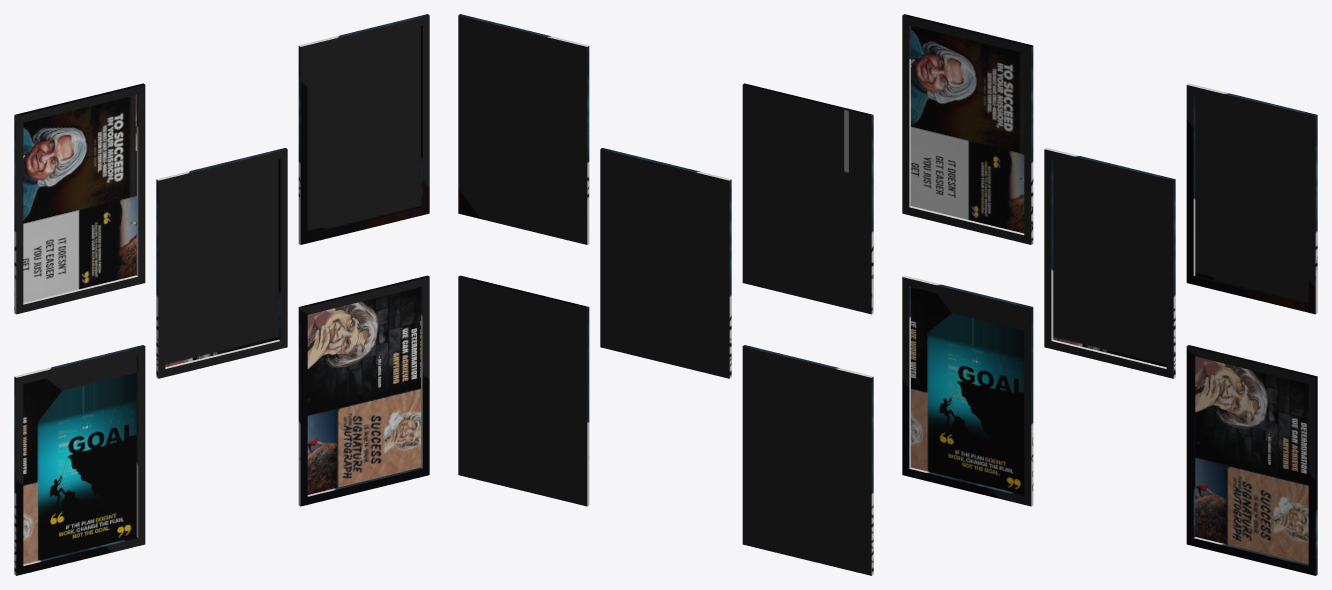
Rendered from Banner.fbx.
3 renders of one model, left to right at view 1: azimuth 30°, elevation 25°; view 2: azimuth 150°, elevation 25°; view 3: azimuth 330°, elevation 25°, orthographic.
Parts seen in each view (by area): view 1: Painting_2_low, Painting_2_low.001, Painting_2_low.002, Painting_2_low.003, Painting_2_low.004; view 2: Painting_2_low, Painting_2_low.001, Painting_2_low.002, Painting_2_low.003, Painting_2_low.004; view 3: Painting_2_low, Painting_2_low.001, Painting_2_low.002, Painting_2_low.003, Painting_2_low.004.
Boxes of the visible parts, box(x1,y1,x2,y2) form: Painting_2_low: box(156, 148, 287, 378); Painting_2_low.001: box(14, 345, 145, 575); Painting_2_low.002: box(298, 275, 429, 506); Painting_2_low.003: box(14, 83, 145, 314); Painting_2_low.004: box(298, 14, 429, 244); Painting_2_low: box(600, 148, 731, 378); Painting_2_low.001: box(742, 345, 873, 575); Painting_2_low.002: box(458, 275, 589, 506); Painting_2_low.003: box(742, 83, 873, 314); Painting_2_low.004: box(458, 14, 589, 244); Painting_2_low: box(1044, 148, 1175, 378); Painting_2_low.001: box(902, 275, 1033, 506); Painting_2_low.002: box(1186, 345, 1317, 575); Painting_2_low.003: box(902, 14, 1033, 244); Painting_2_low.004: box(1186, 83, 1317, 314).
Bounding box in the file's own units: 70.93 × 75.31 × 0.6003.
1 material, 1 textured.
